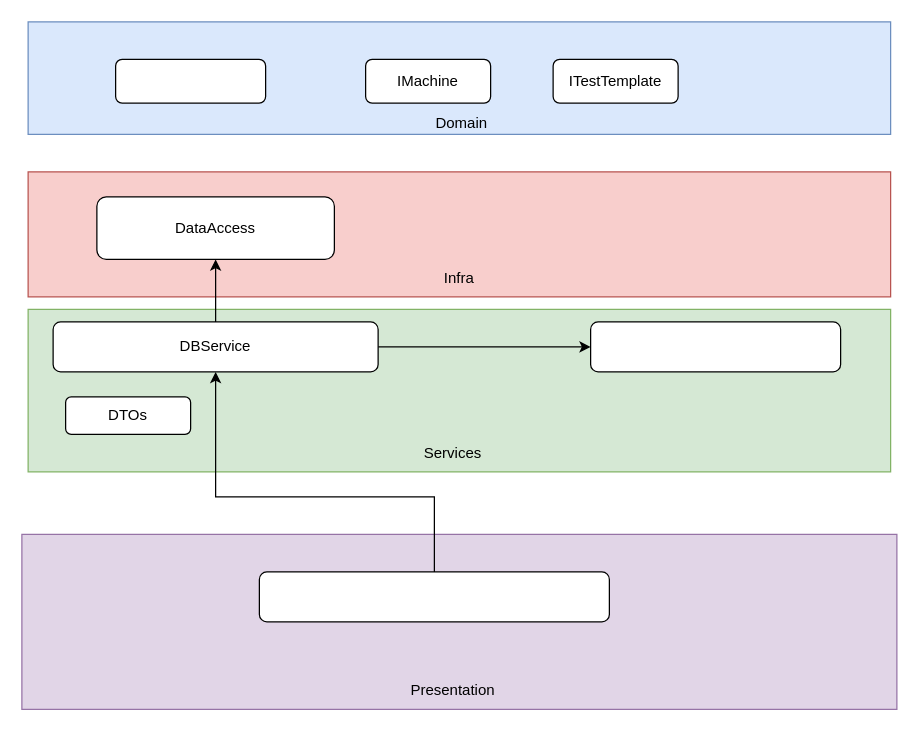
The diagram is 919 pixels wide and 731 high, and some of its shapes have lost their labels. Here are the shapes that lost their labels. From the top down, the centre of each, then its label:
(190,80): ITestDocument
(715,346): TestDocumentBuilder
(433,596): ViewModel
